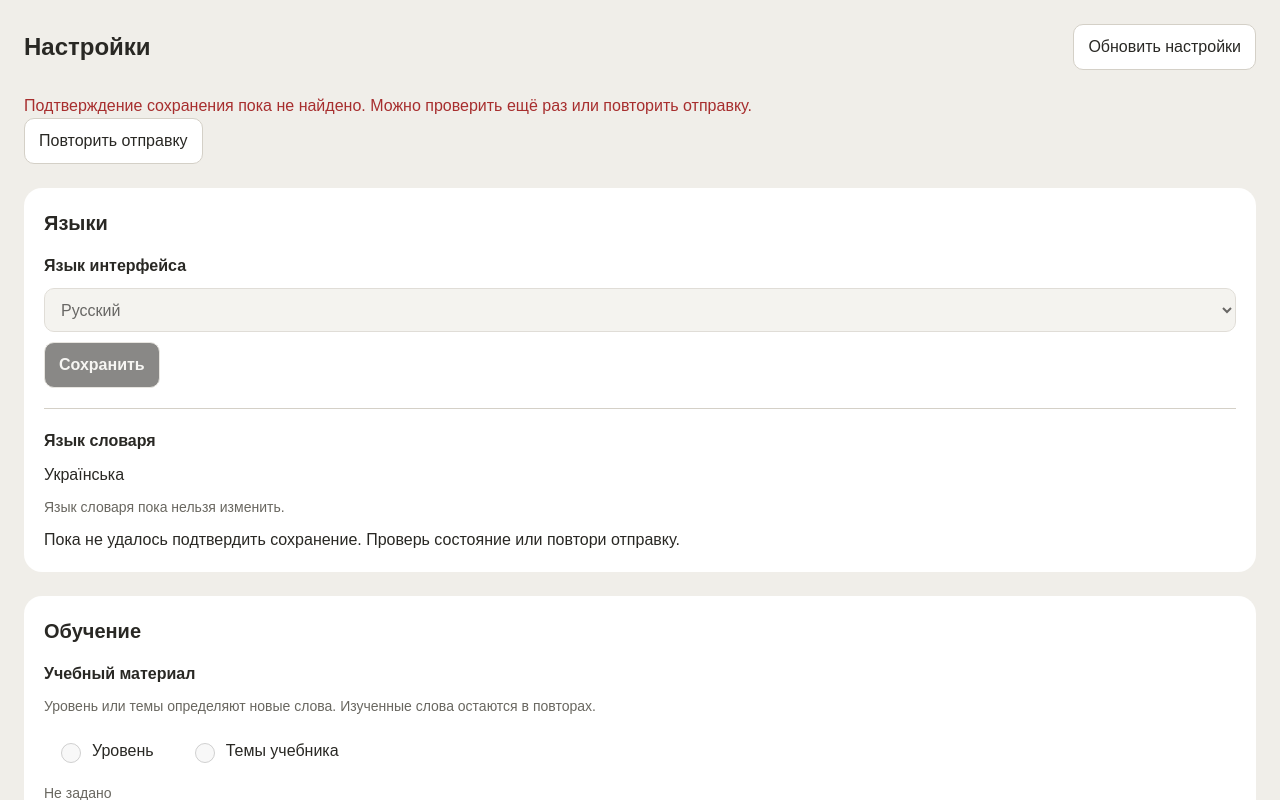
the chosen dictionary language in the actual Settings screen › an intent of another language stored before the choice is retried once, refused as locked and shown so
Expected: the text "Подтверждение сохранения пока не найдено. Можно проверить ещё раз или повторить отправку." is shown, 24,97 -> 752,114
Expected: the text "Українська" is shown, 44,466 -> 124,483
Click the button "Повторить отправку".
click(113, 141)  # box 24,118 -> 203,164
(page scrolled)
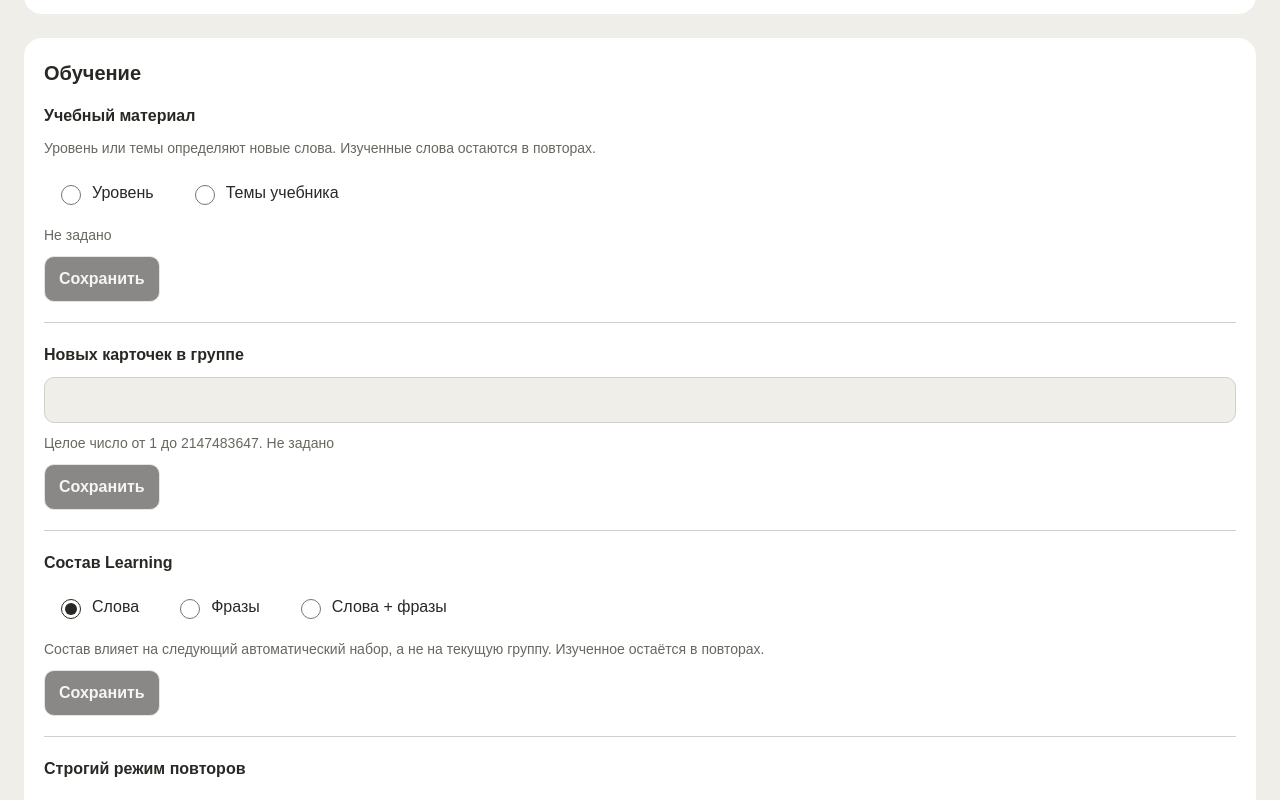
Now the text "Повторить отправку" is gone
Now the field is enabled, box 44,377 -> 1236,423
